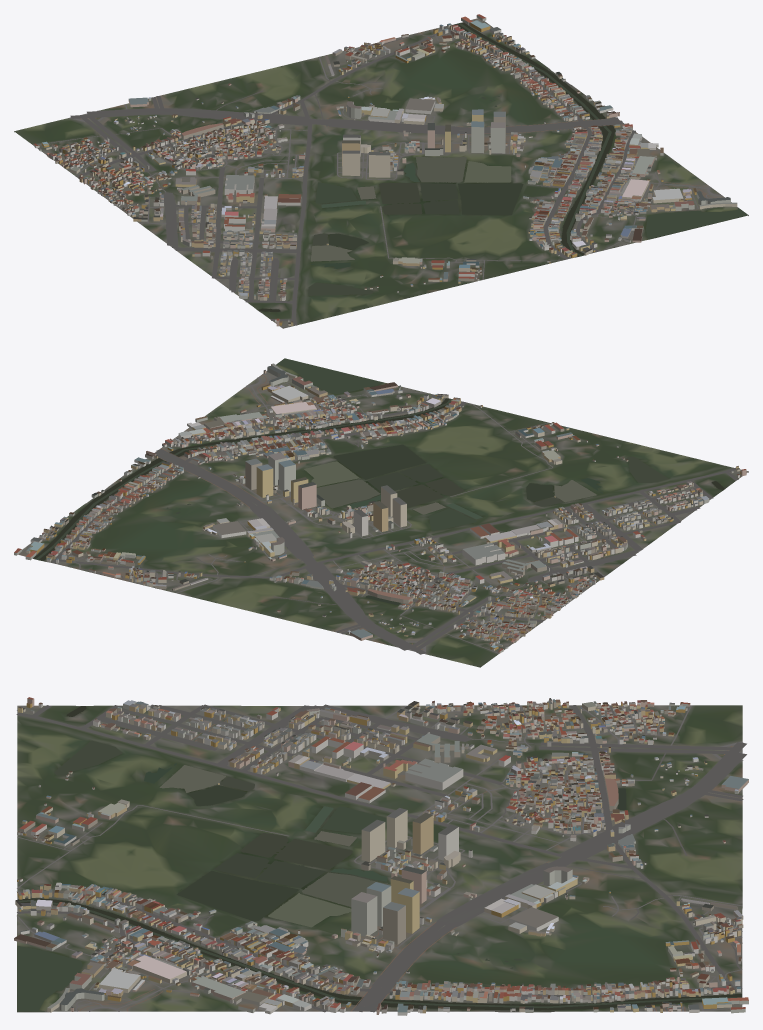
3 renders of one model, top to bottom at view 1: azimuth 30°, elevation 25°; view 2: azimuth 150°, elevation 25°; view 3: azimuth 270°, elevation 25°, orthographic. The views are drawn at different scales.
Parts seen in each view (by area): view 1: ground, buildings, roads, water; view 2: ground, buildings, water, roads; view 3: ground, buildings, roads, water.
Part boxes in pixels (x1,y1,x2,y2): ground: (14,18,748,328); buildings: (33,14,737,326); roads: (37,26,722,327); water: (258,22,747,311); ground: (18,359,748,667); buildings: (14,363,746,653); water: (33,358,724,604); roads: (24,374,738,654); ground: (17,705,742,1012); buildings: (14,697,748,1015); roads: (16,704,746,1012); water: (17,706,741,1011).
Bounding box in the file's own units: 1425 × 82.1 × 1420.
